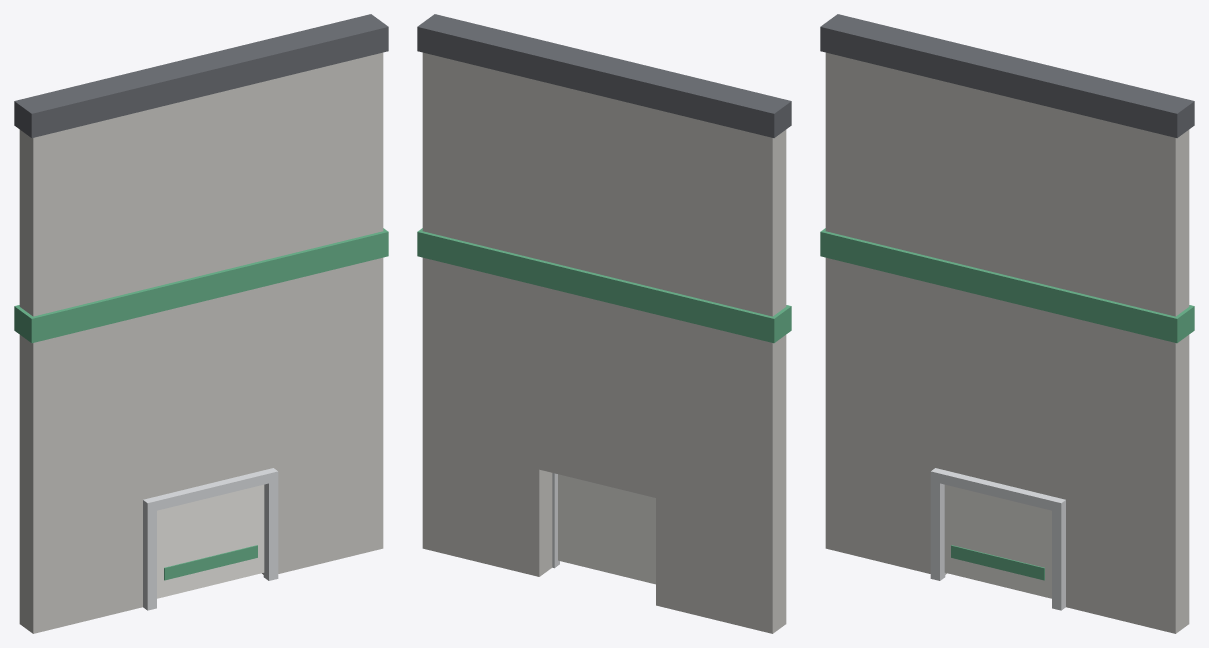
File: boarding-kennels-and-cattery-boarding-kennels-and-catt-b7cf694c__35546.glb
3 renders of one model, left to right at view 1: azimuth 30°, elevation 25°; view 2: azimuth 150°, elevation 25°; view 3: azimuth 330°, elevation 25°, orthographic.
Visible parts, largest first — view 1: boarding-kennels-and-cattery-cat-flap-panel, cat-flap/cream, cat-flap/green; view 2: boarding-kennels-and-cattery-cat-flap-panel, cat-flap/cream; view 3: boarding-kennels-and-cattery-cat-flap-panel, cat-flap/cream, cat-flap/green.
Part boxes in pixels (x1,y1,x2,y2): boarding-kennels-and-cattery-cat-flap-panel: [14, 14, 388, 633]; cat-flap/cream: [157, 484, 264, 598]; cat-flap/green: [164, 545, 257, 580]; boarding-kennels-and-cattery-cat-flap-panel: [417, 14, 791, 633]; cat-flap/cream: [558, 474, 655, 584]; boarding-kennels-and-cattery-cat-flap-panel: [820, 14, 1194, 633]; cat-flap/cream: [944, 484, 1051, 598]; cat-flap/green: [951, 545, 1044, 580].
Size of the model in its own units: 1.53 by 2.14 by 0.15.
